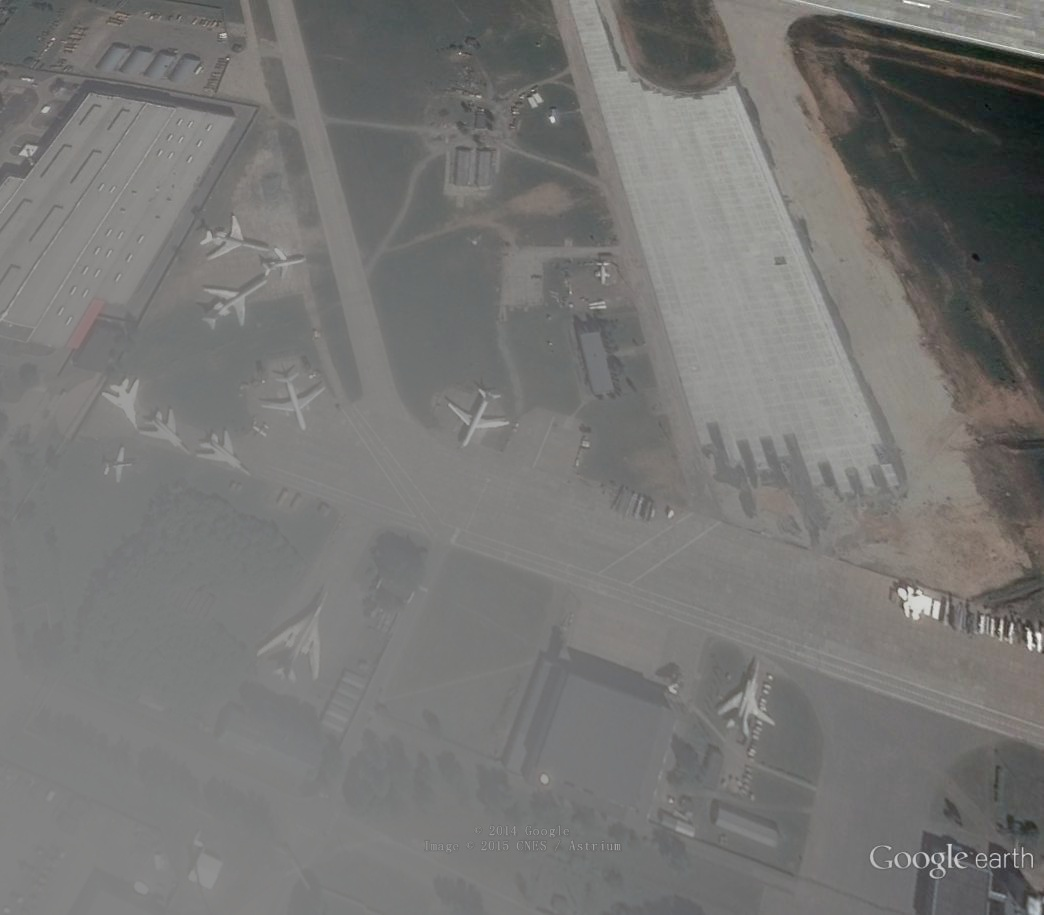aircraft: (253, 589, 330, 690), (714, 657, 778, 744), (441, 379, 516, 451), (256, 372, 333, 433), (199, 277, 274, 333), (196, 211, 271, 264), (190, 426, 255, 480), (133, 406, 195, 460), (99, 375, 147, 433), (259, 246, 309, 285), (100, 442, 132, 487), (592, 261, 612, 286)
